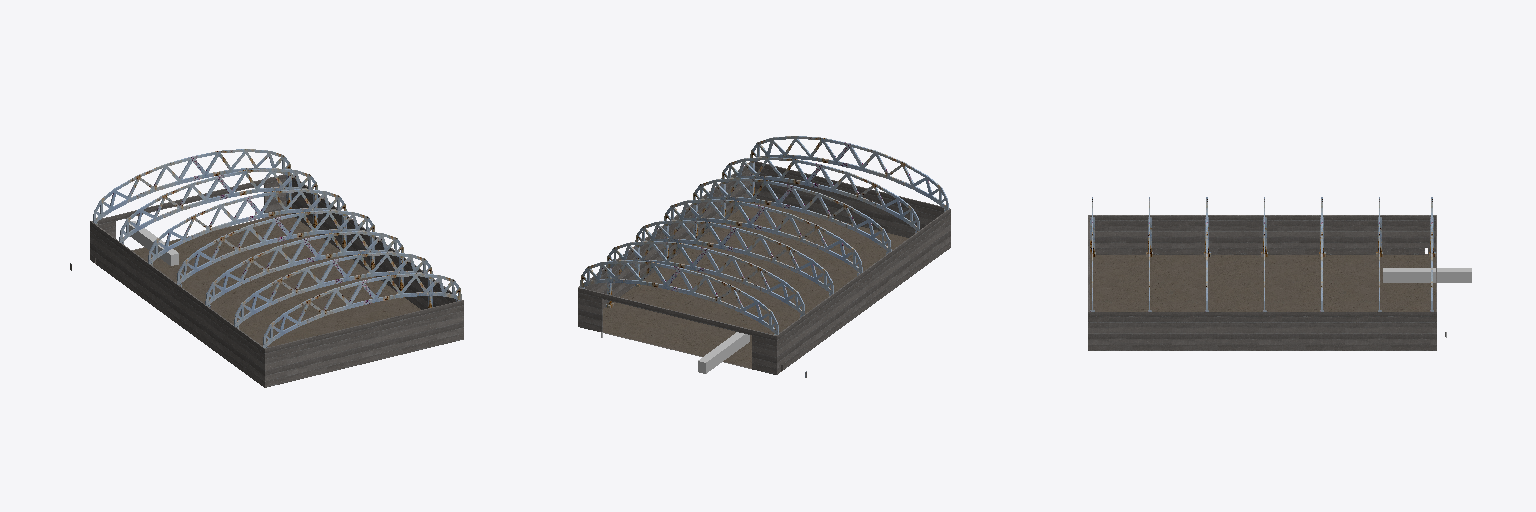
3 renders of one model, left to right at view 1: azimuth 30°, elevation 25°; view 2: azimuth 150°, elevation 25°; view 3: azimuth 270°, elevation 25°, orthographic.
Parts seen in each view (by area): view 1: hangar_walls_Plane, Cube.007_Cube.010, boxcar_Cube.001; view 2: hangar_walls_Plane, Cube.007_Cube.010, boxcar_Cube.001; view 3: hangar_walls_Plane, Cube.007_Cube.010, boxcar_Cube.001.
Part boxes in pixels (left/top/right/bottom): hangar_walls_Plane: left=90, top=174, right=463, bottom=387; Cube.007_Cube.010: left=93, top=149, right=461, bottom=347; boxcar_Cube.001: left=126, top=221, right=178, bottom=265; hangar_walls_Plane: left=578, top=161, right=950, bottom=374; Cube.007_Cube.010: left=580, top=136, right=948, bottom=334; boxcar_Cube.001: left=698, top=332, right=749, bottom=373; hangar_walls_Plane: left=1088, top=215, right=1436, bottom=350; Cube.007_Cube.010: left=1090, top=197, right=1435, bottom=311; boxcar_Cube.001: left=1383, top=268, right=1471, bottom=282.
Bounding box in the file's own units: 89.97 × 31.28 × 134.
Materials: 5 (3 with a texture image).